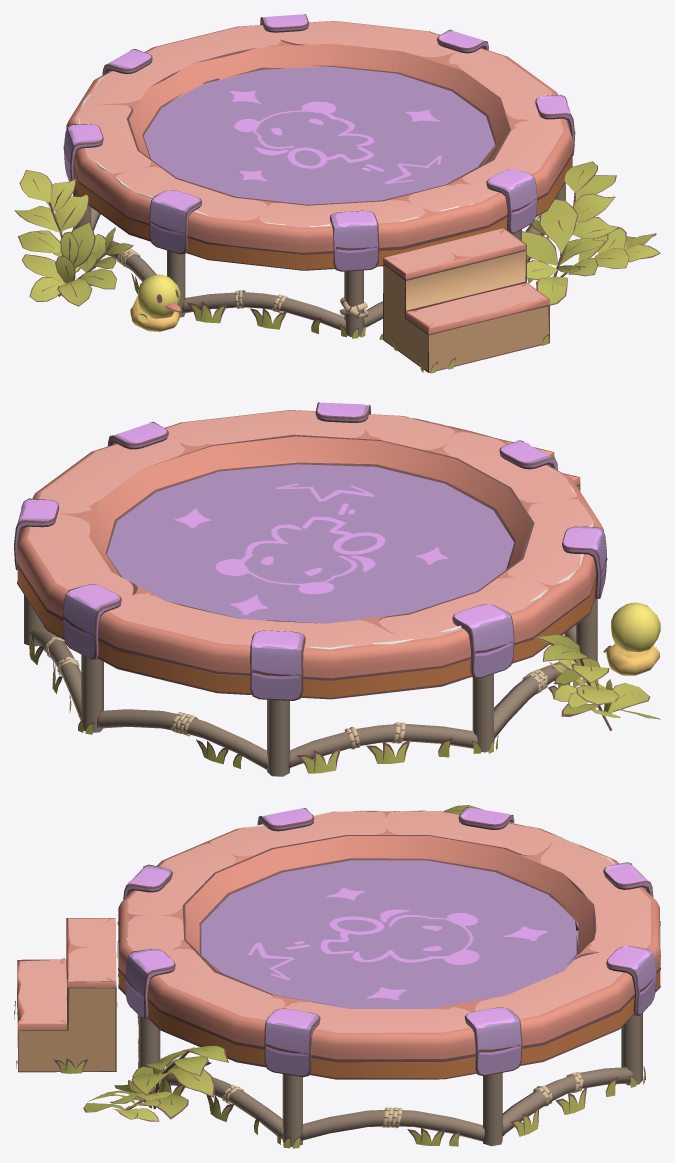
Rendered from Mesh_Home_B_Idyll_26_SM.fbx.
The picture shows the model from 3 angles, top to bottom: view 1: azimuth 30°, elevation 25°; view 2: azimuth 150°, elevation 25°; view 3: azimuth 270°, elevation 25°; orthographic projection. The views are drawn at different scales.
Parts seen in each view (by area): view 1: Mesh_Home_B_Idyll_26; view 2: Mesh_Home_B_Idyll_26; view 3: Mesh_Home_B_Idyll_26.
Boxes of the visible parts, box(x1,y1,x2,y2) form: Mesh_Home_B_Idyll_26: box(14, 14, 660, 373); Mesh_Home_B_Idyll_26: box(14, 402, 660, 776); Mesh_Home_B_Idyll_26: box(14, 805, 660, 1148).
Bounding box in the file's own units: 169 × 38.09 × 169.
1 material, 1 textured.
